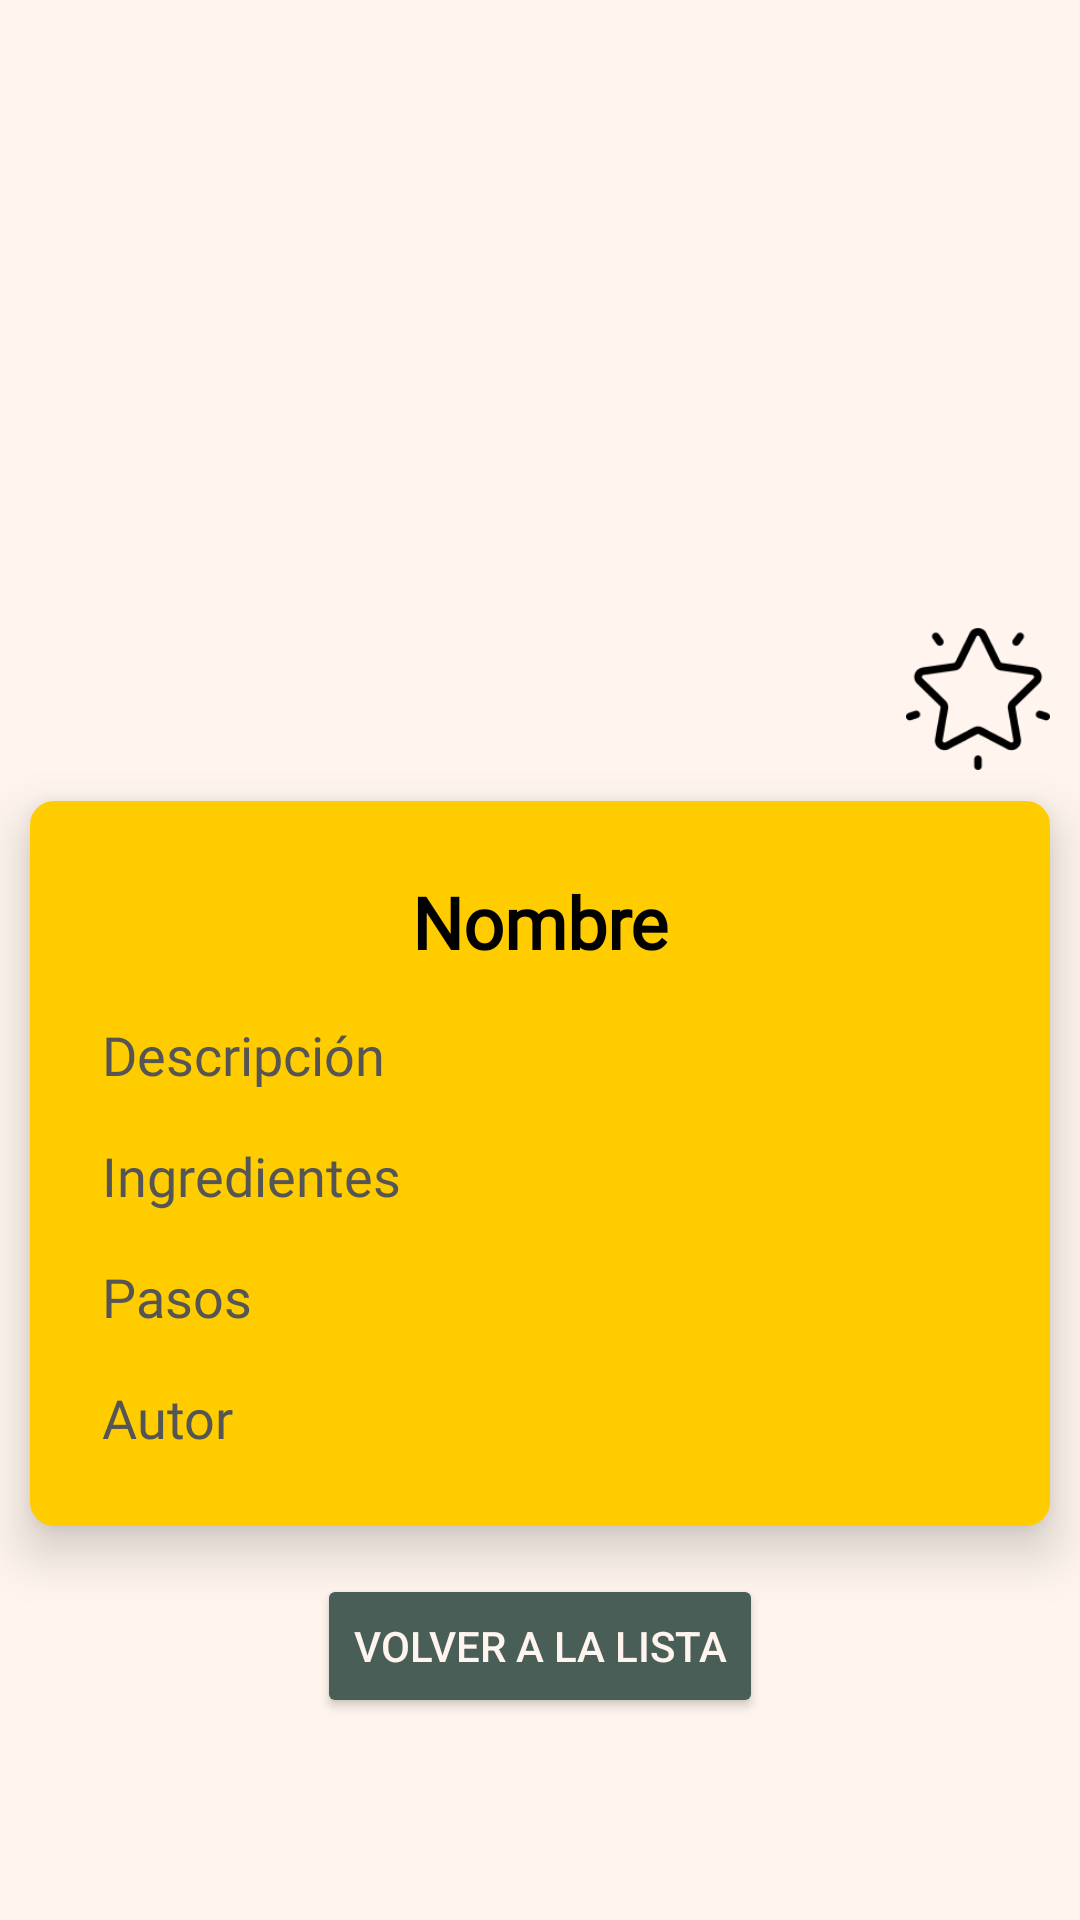

Screen size 1080w x 1920h. Icon name, then its center in pixels as (x=x, y=y):
favoritos: (x=978, y=699)
